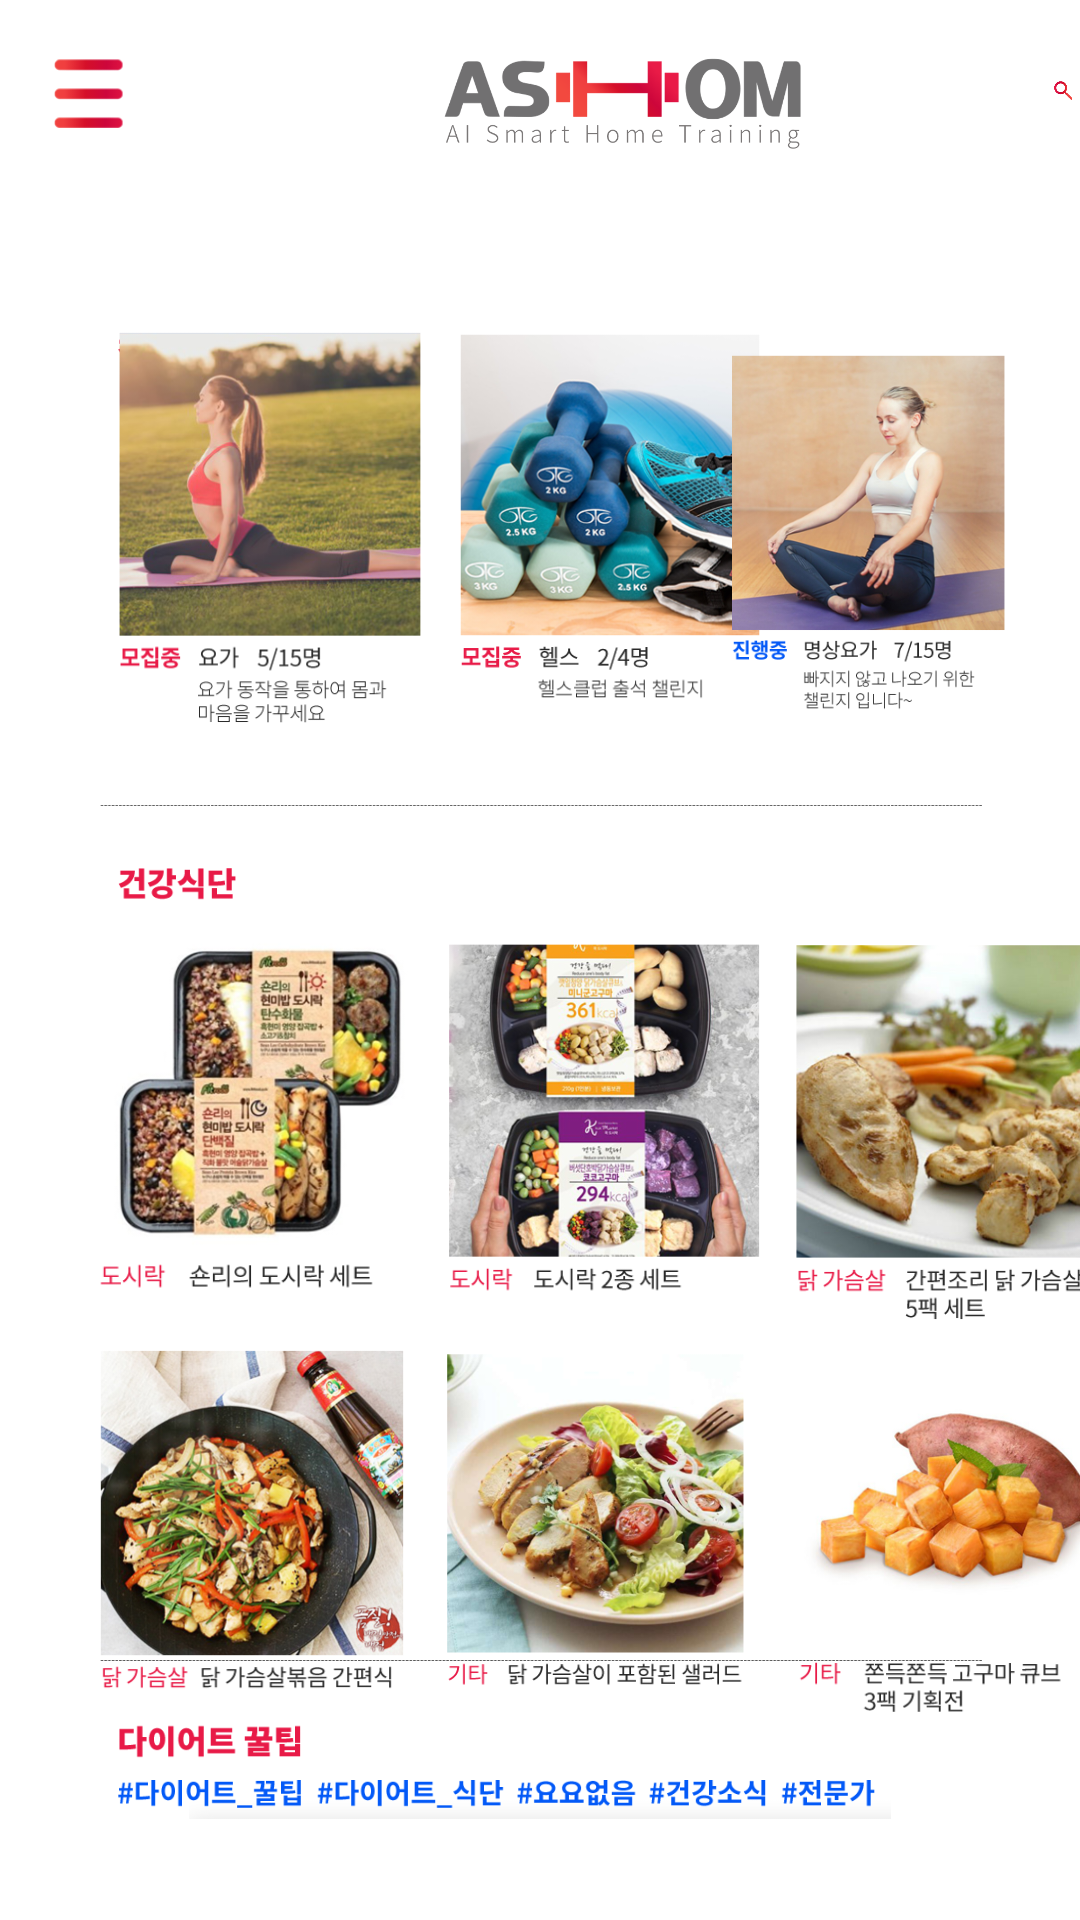

Icon click points for this 1080x1920 phone screenshot, format (x,y):
triple: (88,93)
